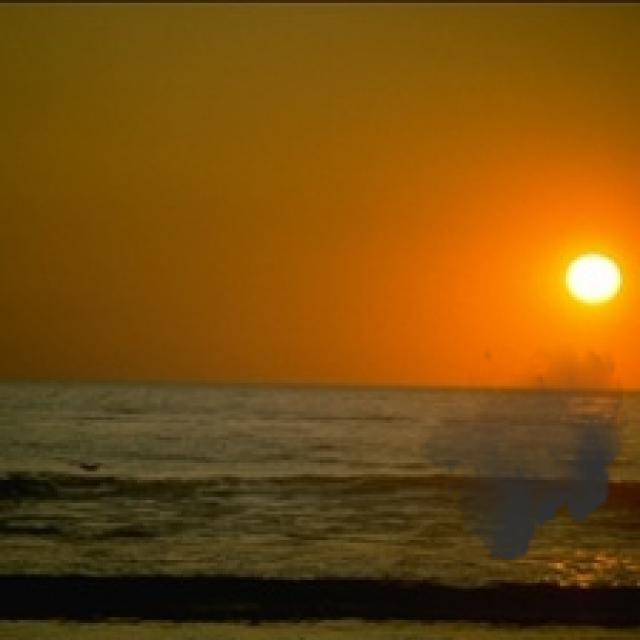smoke: (417, 337, 629, 572)
